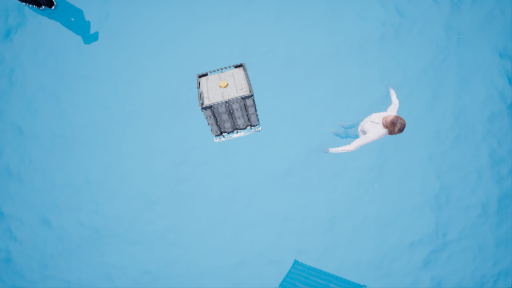person: (325, 90, 405, 157)
